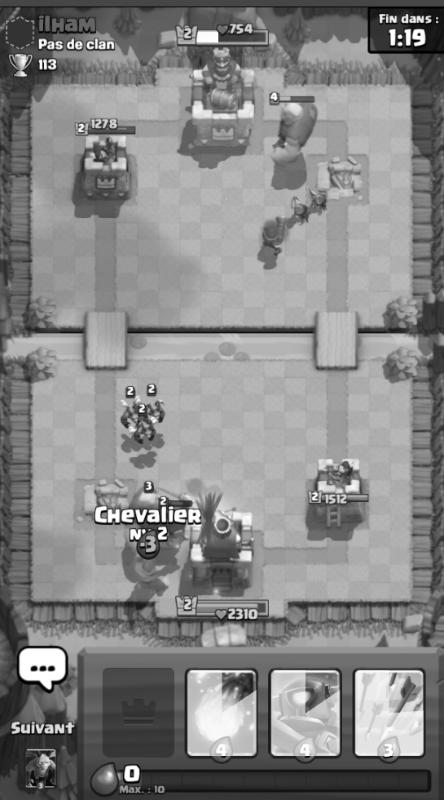archere: (307, 185, 330, 216), (291, 194, 311, 227)
chevalier: (155, 485, 193, 546), (132, 551, 170, 598)
gargouille: (119, 396, 143, 429), (132, 419, 157, 447), (146, 400, 167, 425)
geant: (269, 97, 320, 168), (124, 483, 165, 558)
mousquetaire: (261, 214, 289, 259)
